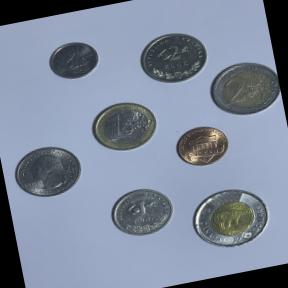1 Euro: (84, 94, 164, 160)
2 Euro: (204, 55, 284, 123)
Canda-10cent-: (42, 34, 106, 86)
Canda-2Dollar-: (182, 178, 276, 258)
Croatia-2Kune-: (134, 26, 212, 90)
US-1cent-: (168, 118, 235, 174)
US-25cent-: (7, 136, 88, 206)
